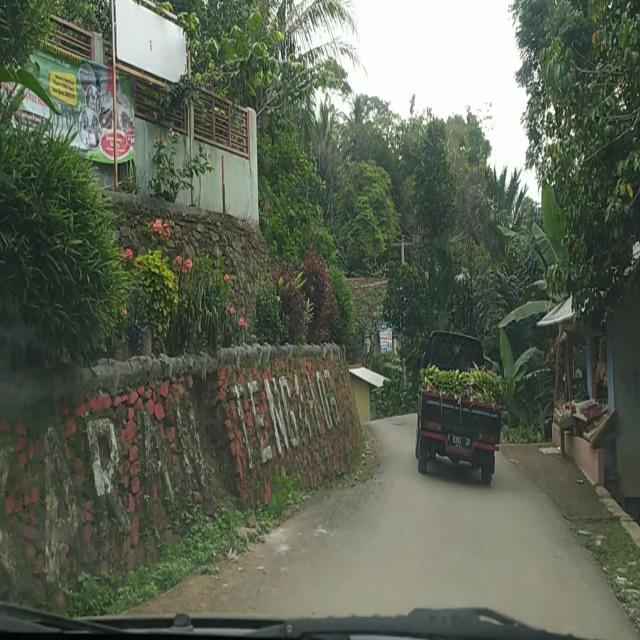Drain Hole: (310, 469, 382, 537)
